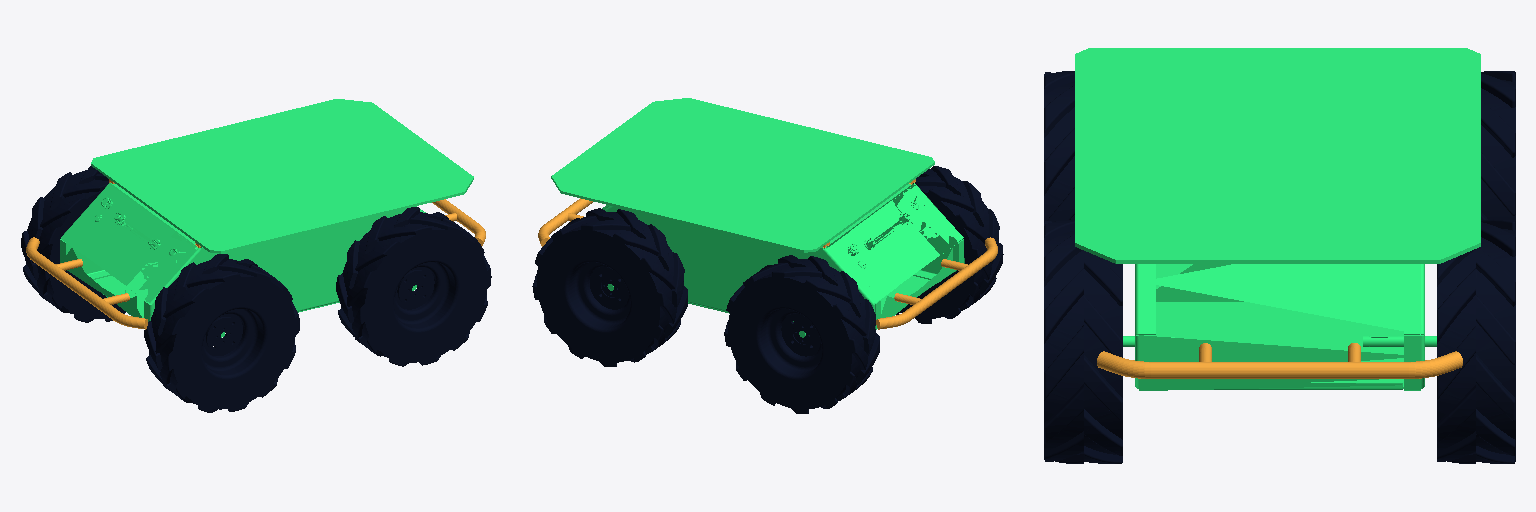
The robot description file, URDF, robot "husky":
<?xml version="1.0"?>
<!-- Visual-only Husky A200, derived from husky_description (BSD-3-Clause, Clearpath Robotics).
     Meshes decimated for web; materials from site palette (green / amber / dark).
     Runtime materials in RobotStage may still override these. -->
<robot name="husky">
  <material name="body">
    <color rgba="0.223529 1 0.54902 1"/>
  </material>
  <material name="accent">
    <color rgba="1 0.701961 0.278431 1"/>
  </material>
  <material name="dark">
    <color rgba="0.07451 0.101961 0.180392 1"/>
  </material>

  <link name="base_link">
    <visual>
      <origin xyz="0 0 0" rpy="0 0 0"/>
      <geometry><mesh filename="meshes/base_link.stl"/></geometry>
      <material name="body"/>
    </visual>
  </link>

  <link name="top_chassis_link">
    <visual>
      <geometry><mesh filename="meshes/top_chassis.stl"/></geometry>
      <material name="body"/>
    </visual>
  </link>
  <joint name="top_chassis_joint" type="fixed">
    <parent link="base_link"/>
    <child link="top_chassis_link"/>
  </joint>

  <link name="user_rail_link">
    <visual>
      <geometry><mesh filename="meshes/user_rail.stl"/></geometry>
      <material name="accent"/>
    </visual>
  </link>
  <joint name="user_rail" type="fixed">
    <origin xyz="0.272 0 0.245" rpy="0 0 0"/>
    <parent link="base_link"/>
    <child link="user_rail_link"/>
  </joint>

  <link name="front_bumper_link">
    <visual>
      <geometry><mesh filename="meshes/bumper.stl"/></geometry>
      <material name="accent"/>
    </visual>
  </link>
  <joint name="front_bumper" type="fixed">
    <origin xyz="0.48 0 0.091" rpy="0 0 0"/>
    <parent link="base_link"/>
    <child link="front_bumper_link"/>
  </joint>

  <link name="rear_bumper_link">
    <visual>
      <geometry><mesh filename="meshes/bumper.stl"/></geometry>
      <material name="accent"/>
    </visual>
  </link>
  <joint name="rear_bumper" type="fixed">
    <origin xyz="-0.48 0 0.091" rpy="0 0 3.14159"/>
    <parent link="base_link"/>
    <child link="rear_bumper_link"/>
  </joint>

  <link name="top_plate_link">
    <visual>
      <geometry><mesh filename="meshes/top_plate.stl"/></geometry>
      <material name="body"/>
    </visual>
  </link>
  <joint name="top_plate_joint" type="fixed">
    <origin xyz="0.0812 0 0.245" rpy="0 0 0"/>
    <parent link="base_link"/>
    <child link="top_plate_link"/>
  </joint>

  <link name="front_left_wheel">
    <visual>
      <geometry><mesh filename="meshes/wheel.stl"/></geometry>
      <material name="dark"/>
    </visual>
  </link>
  <joint name="front_left_wheel_joint" type="continuous">
    <origin xyz="0.256 0.2854 0.03282" rpy="0 0 0"/>
    <parent link="base_link"/>
    <child link="front_left_wheel"/>
    <axis xyz="0 1 0"/>
  </joint>

  <link name="front_right_wheel">
    <visual>
      <geometry><mesh filename="meshes/wheel.stl"/></geometry>
      <material name="dark"/>
    </visual>
  </link>
  <joint name="front_right_wheel_joint" type="continuous">
    <origin xyz="0.256 -0.2854 0.03282" rpy="0 0 0"/>
    <parent link="base_link"/>
    <child link="front_right_wheel"/>
    <axis xyz="0 1 0"/>
  </joint>

  <link name="rear_left_wheel">
    <visual>
      <geometry><mesh filename="meshes/wheel.stl"/></geometry>
      <material name="dark"/>
    </visual>
  </link>
  <joint name="rear_left_wheel_joint" type="continuous">
    <origin xyz="-0.256 0.2854 0.03282" rpy="0 0 0"/>
    <parent link="base_link"/>
    <child link="rear_left_wheel"/>
    <axis xyz="0 1 0"/>
  </joint>

  <link name="rear_right_wheel">
    <visual>
      <geometry><mesh filename="meshes/wheel.stl"/></geometry>
      <material name="dark"/>
    </visual>
  </link>
  <joint name="rear_right_wheel_joint" type="continuous">
    <origin xyz="-0.256 -0.2854 0.03282" rpy="0 0 0"/>
    <parent link="base_link"/>
    <child link="rear_right_wheel"/>
    <axis xyz="0 1 0"/>
  </joint>
</robot>

--- What the picture shows (computed from the rendered views, not written in the file) ---
3 views of the same robot in one strip: view 1: azimuth 30°, elevation 25°; view 2: azimuth 150°, elevation 25°; view 3: azimuth 270°, elevation 25° (orthographic).
Robot: husky — 10 links, 9 joints (4 continuous, 5 fixed); root link base_link; default pose: every joint at zero.
Visible links, largest first — view 1: top_plate_link, front_right_wheel, rear_right_wheel, base_link, top_chassis_link, rear_left_wheel, rear_bumper_link, front_bumper_link; view 2: top_plate_link, front_left_wheel, rear_left_wheel, base_link, top_chassis_link, rear_right_wheel, rear_bumper_link, front_bumper_link; view 3: top_plate_link, top_chassis_link, front_left_wheel, front_right_wheel, base_link, front_bumper_link, rear_left_wheel, rear_right_wheel.
Boxes of the visible links, x1,y1,x2,y2 form: top_plate_link: (91, 99, 473, 253); front_right_wheel: (336, 207, 491, 366); rear_right_wheel: (144, 254, 299, 412); base_link: (60, 183, 424, 337); top_chassis_link: (61, 183, 425, 317); rear_left_wheel: (21, 166, 125, 322); rear_bumper_link: (26, 237, 147, 329); front_bumper_link: (432, 199, 485, 245); top_plate_link: (551, 98, 934, 252); front_left_wheel: (532, 208, 687, 366); rear_left_wheel: (724, 255, 879, 413); base_link: (605, 183, 963, 337); top_chassis_link: (602, 184, 964, 329); rear_right_wheel: (896, 166, 1003, 323); rear_bumper_link: (876, 237, 997, 329); front_bumper_link: (538, 198, 592, 246); top_plate_link: (1075, 48, 1480, 263); top_chassis_link: (1139, 264, 1420, 390); front_left_wheel: (1437, 219, 1515, 463); front_right_wheel: (1044, 219, 1122, 463); base_link: (1123, 264, 1436, 390); front_bumper_link: (1097, 343, 1462, 378); rear_left_wheel: (1481, 71, 1515, 220); rear_right_wheel: (1044, 71, 1074, 222).
Bounding box of the posed robot: 0.9854 × 0.6851 × 0.3964 m (x, y, z).
Meshes: 6 distinct files referenced, 10 mesh visuals loaded (6 binary STL).
